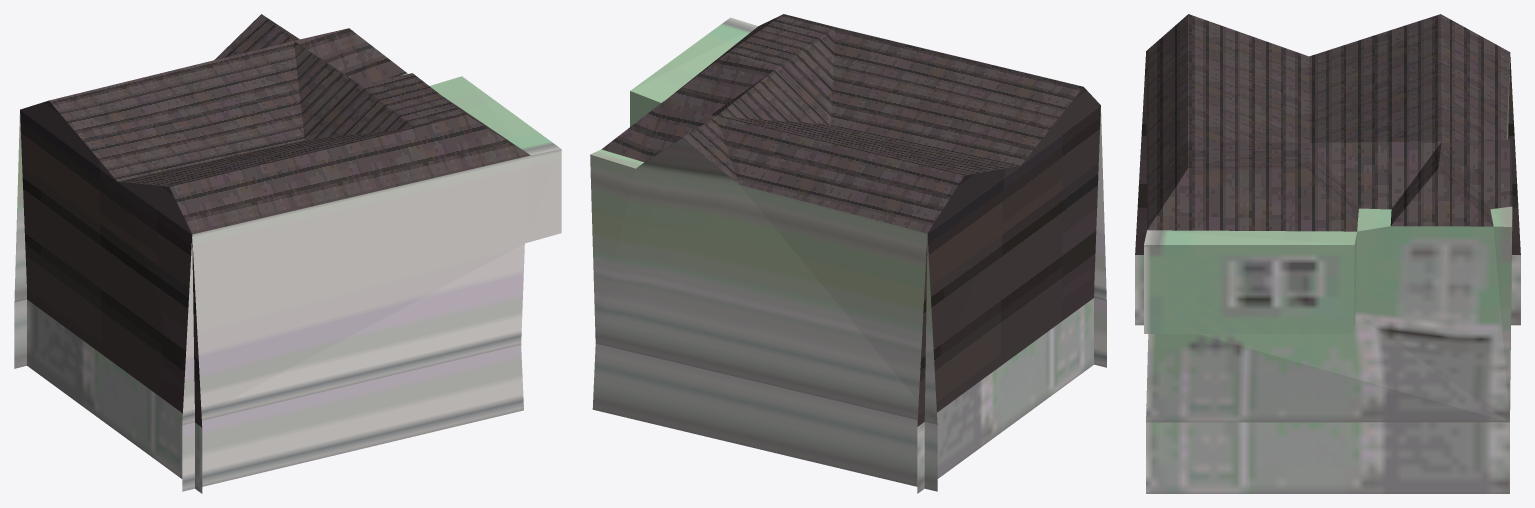
Rendered from lod_hse_07_sfxrf.obj.
The picture shows the model from 3 angles, left to right: view 1: azimuth 30°, elevation 25°; view 2: azimuth 150°, elevation 25°; view 3: azimuth 270°, elevation 25°; orthographic projection. The views are drawn at different scales.
Visible parts, largest first — view 1: LOD_hse_07_SFXRF; view 2: LOD_hse_07_SFXRF; view 3: LOD_hse_07_SFXRF.
Boxes of the visible parts, x1,y1,x2,y2 form: LOD_hse_07_SFXRF: [14, 14, 561, 493]; LOD_hse_07_SFXRF: [590, 14, 1106, 493]; LOD_hse_07_SFXRF: [1135, 14, 1520, 493].
Size of the model in its own units: 11.88 by 8.8 by 9.98.
Materials: 2 (2 with a texture image).
